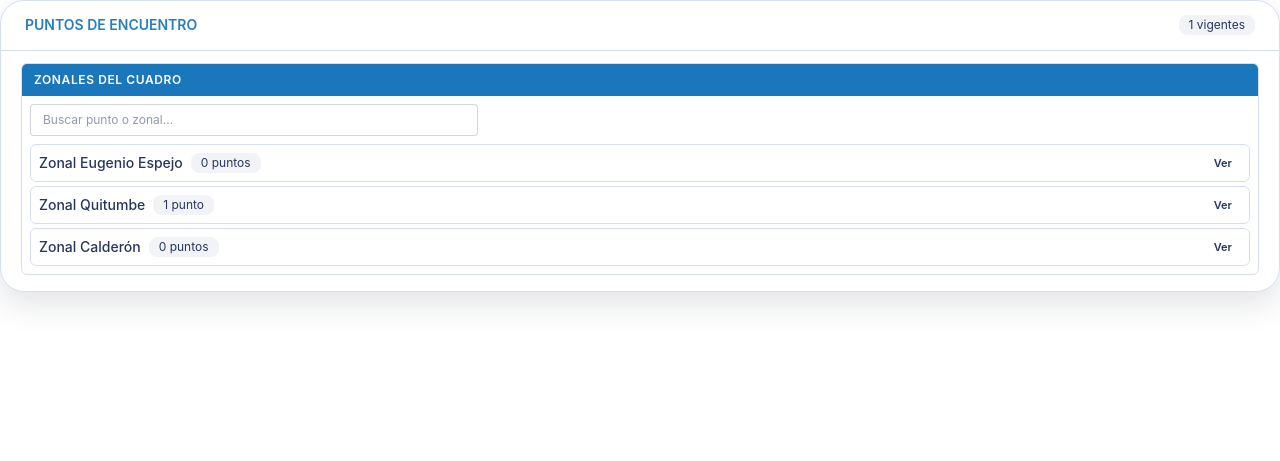
obrar sobre un punto › mientras se procesa no se puede obrar dos veces
This screenshot has width=1280, height=461.
Click the button "Ver" in the row of "1 punto" at (1223, 205), box [1205,193,1241,217]
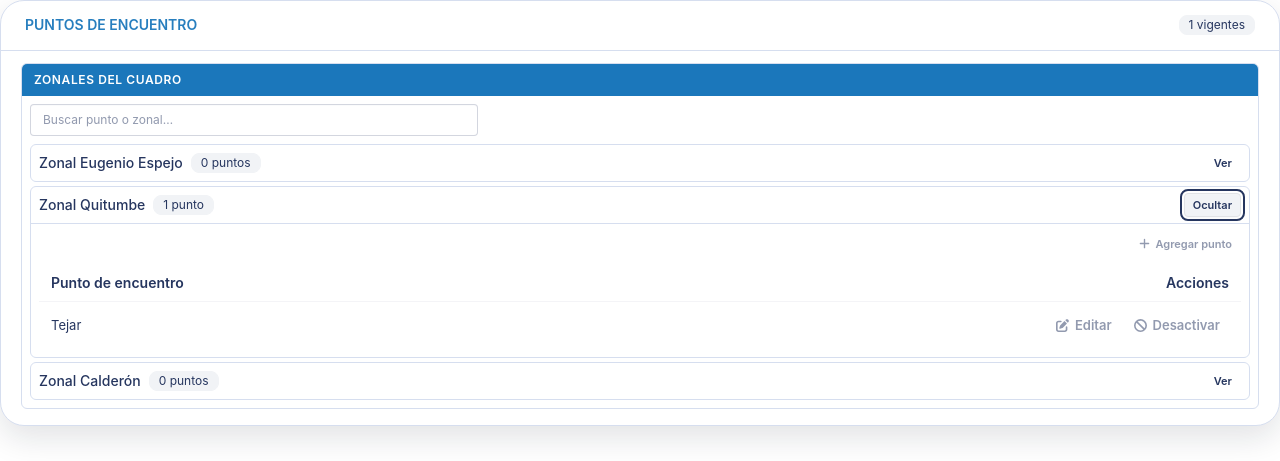
Now the button "Agregar punto" is disabled, box [1130,232,1241,256]
Now the button "Editar" is disabled, box [1047,310,1121,342]
Now the button "Desactivar" is disabled, box [1125,310,1229,342]
